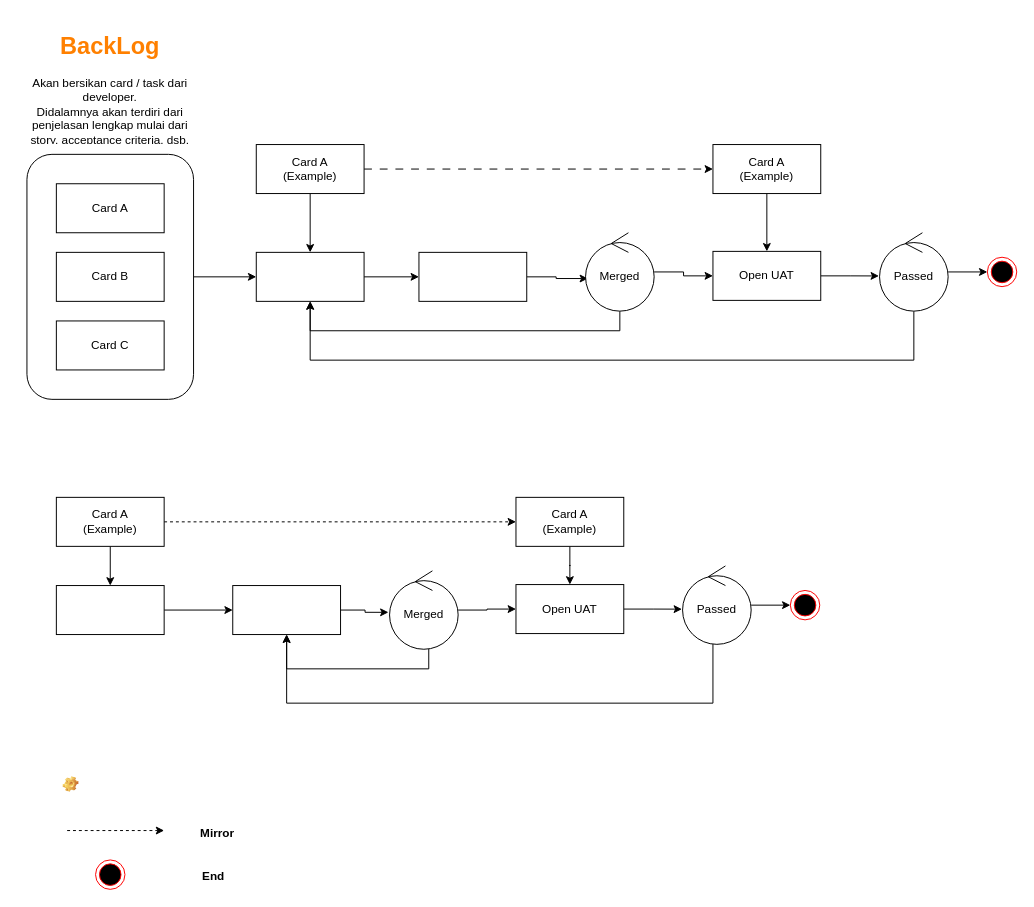
This 1034x907 diagram has some shape labels left out. The centre of each missing label's shape, as x and y in pixels:
Bug Fixing (Developer): (286,610)
Develop (Developer): (309,276)
Legenda: (114,784)
PR to Dev or Stag: (472,276)
QA Open Bug: (109,610)
